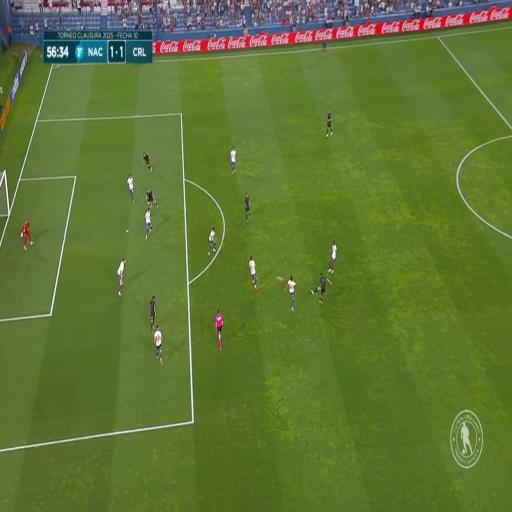Ball: (276, 272, 282, 285)
Goalkeeper: (21, 219, 33, 252)
Player: (116, 258, 126, 295), (140, 149, 152, 177), (149, 292, 157, 333), (316, 271, 326, 303), (330, 240, 338, 276), (326, 108, 335, 140), (249, 257, 258, 289), (127, 172, 135, 208), (288, 274, 296, 309), (242, 195, 252, 220), (209, 228, 217, 258), (156, 326, 162, 362), (147, 188, 156, 212), (230, 145, 237, 173), (146, 207, 152, 237), (322, 34, 326, 64)
Referee: (216, 311, 224, 350)
